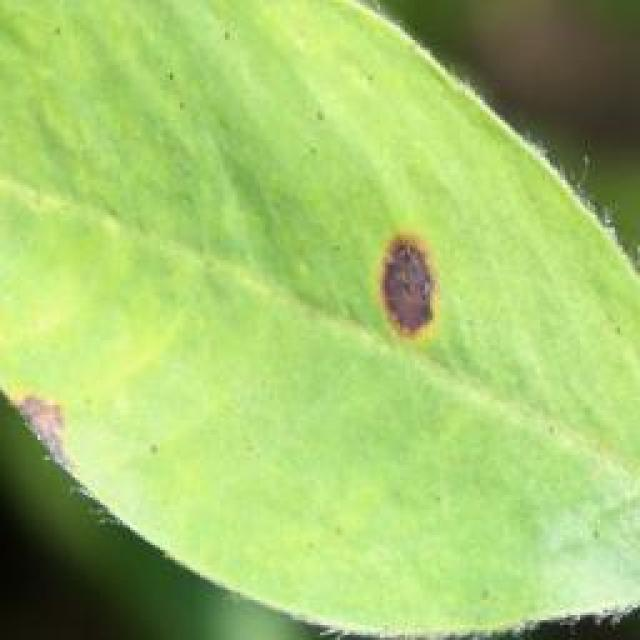Early_leaf_spot: (346, 208, 449, 378), (0, 375, 81, 487)
